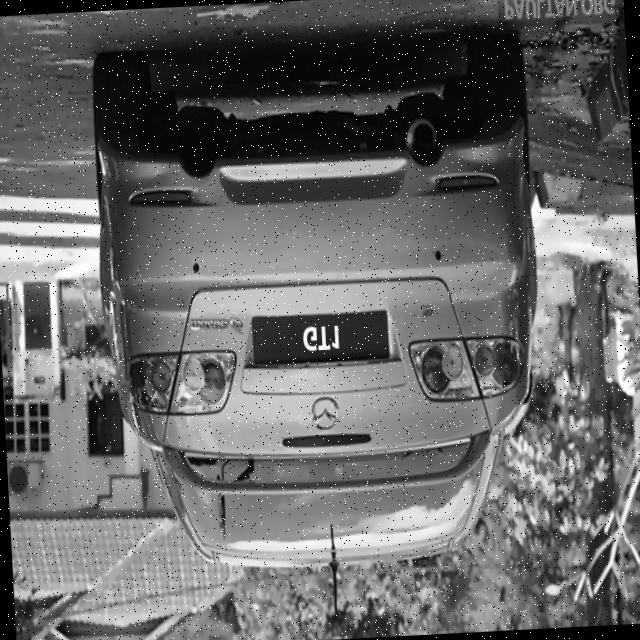License_Plate: (249, 308, 392, 375)
car: (79, 26, 554, 584)
